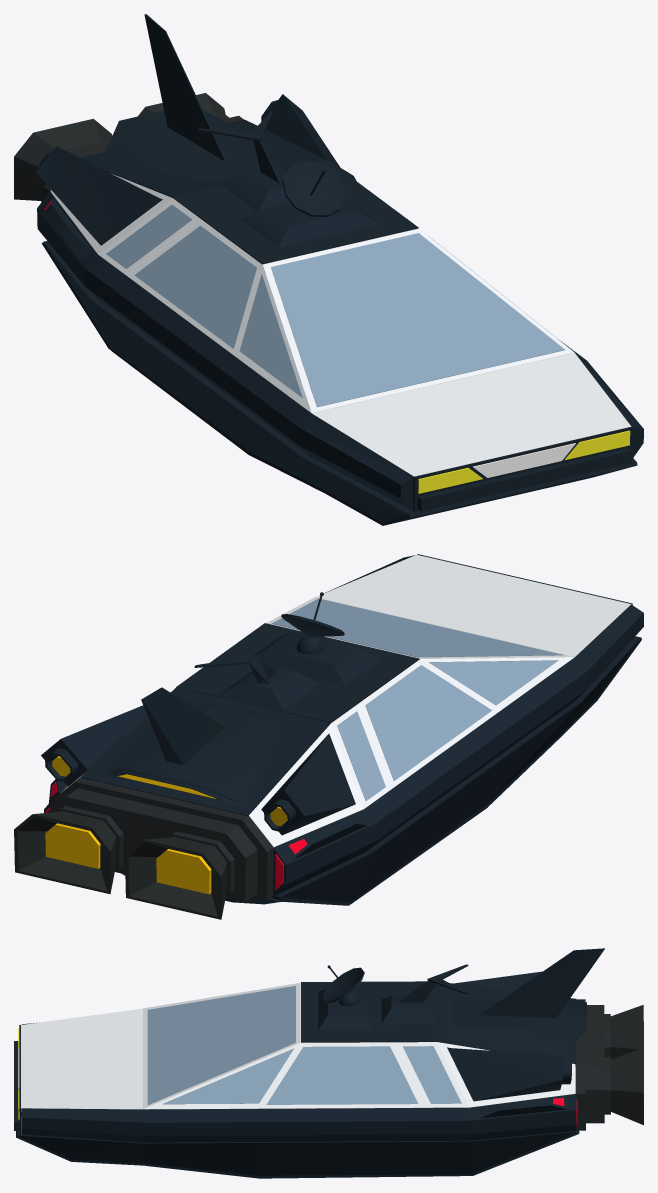
The model's file is star-car.glb.
3 views of the same model, one above another, from view 1: azimuth 30°, elevation 25°; view 2: azimuth 150°, elevation 25°; view 3: azimuth 270°, elevation 25° (orthographic). The views are drawn at different scales.
Visible parts, largest first — view 1: Object_9, Object_10, Object_7, Object_8, Object_5, Object_4, Object_3; view 2: Object_10, Object_7, Object_8, Object_5, Object_9, Object_6, Object_2; view 3: Object_7, Object_10, Object_9, Object_8, Object_5.
Part boxes in pixels (box(x1,y1,x2,y2)): Object_9: box(106, 204, 564, 407); Object_10: box(36, 14, 418, 266); Object_7: box(37, 191, 643, 525); Object_8: box(50, 173, 631, 476); Object_5: box(14, 93, 243, 201); Object_4: box(418, 430, 630, 493); Object_3: box(473, 443, 575, 477); Object_10: box(41, 592, 419, 864); Object_7: box(44, 554, 643, 905); Object_8: box(61, 554, 631, 846); Object_5: box(14, 777, 273, 919); Object_9: box(271, 598, 563, 800); Object_6: box(45, 756, 287, 894); Object_2: box(45, 782, 307, 890); Object_7: box(14, 1022, 579, 1178); Object_10: box(301, 948, 604, 1120); Object_9: box(147, 986, 461, 1104); Object_8: box(21, 983, 575, 1133); Object_5: box(575, 999, 643, 1130).
Bounding box in the file's own units: 25.72 × 23.09 × 63.56.
